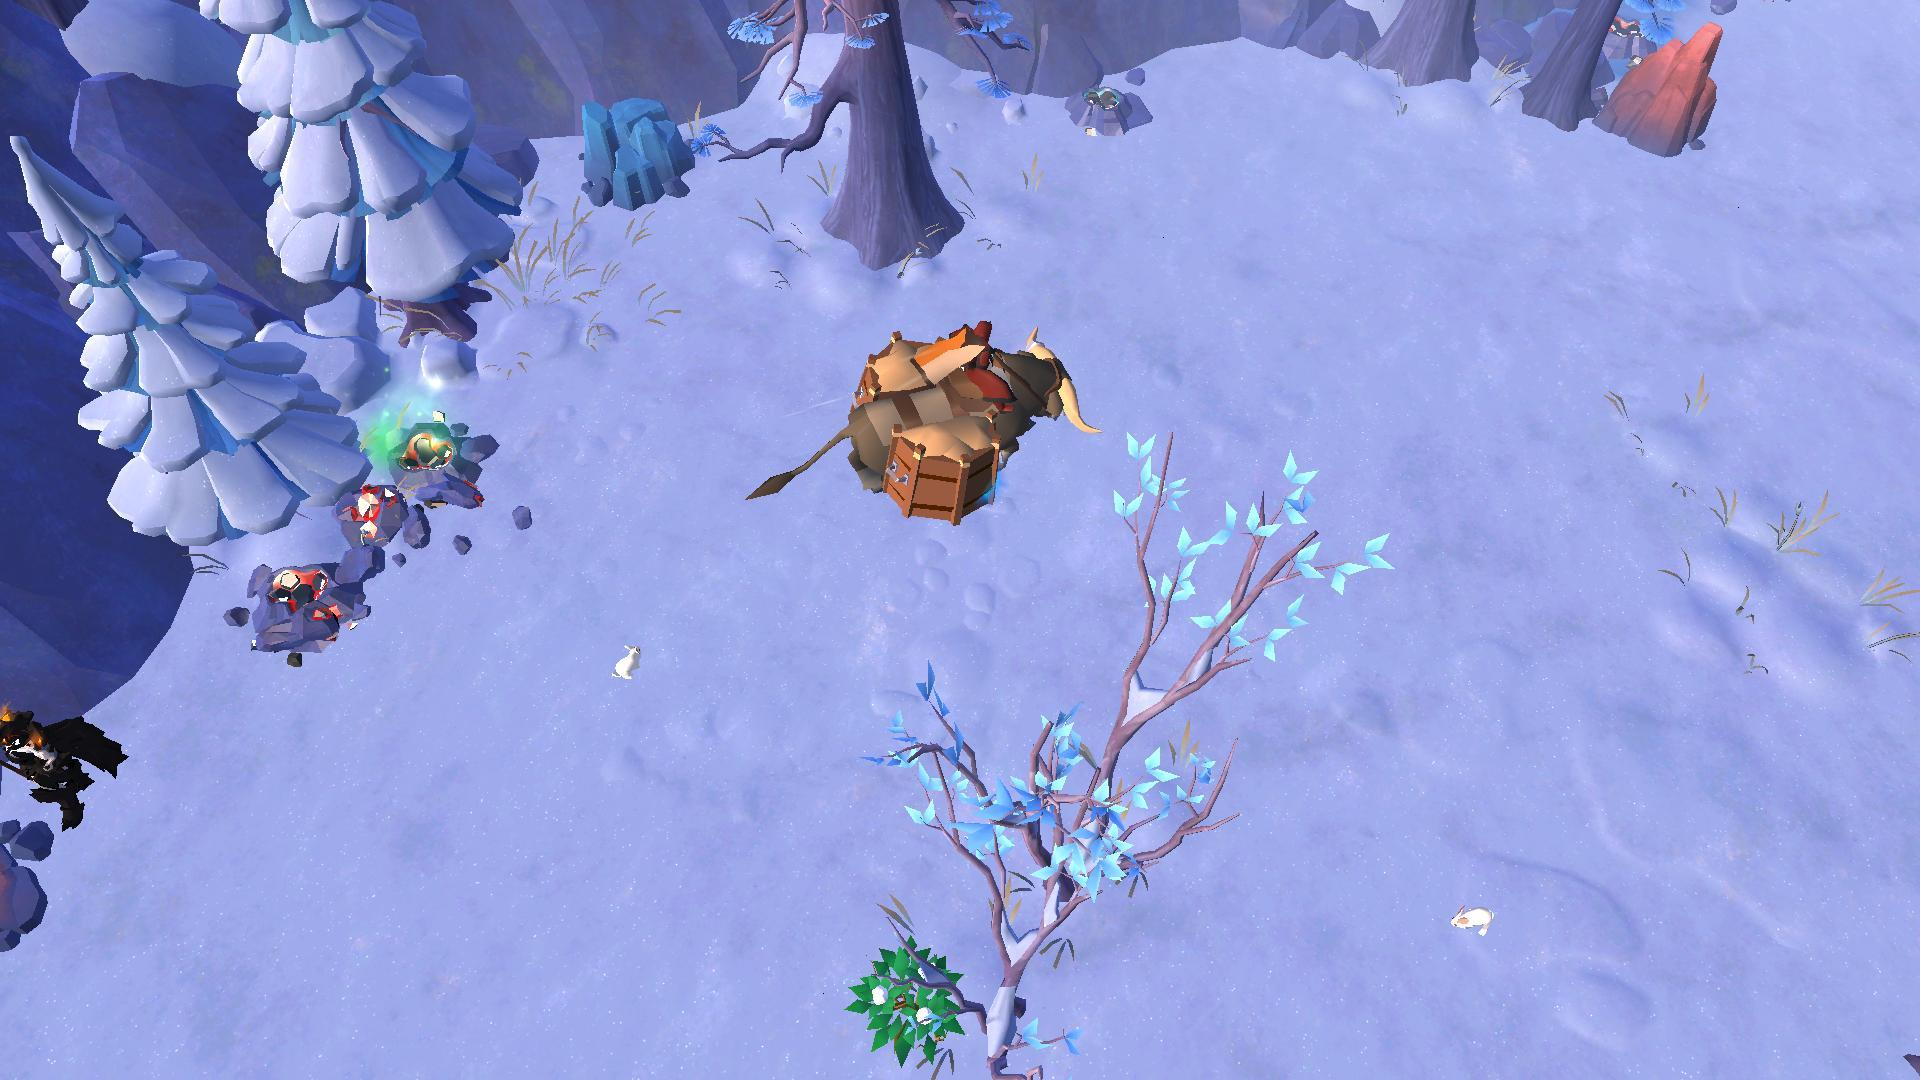fiber_t3: (839, 938, 963, 1062)
rock_t4: (571, 95, 690, 206)
rock_t5: (1596, 18, 1739, 164)
